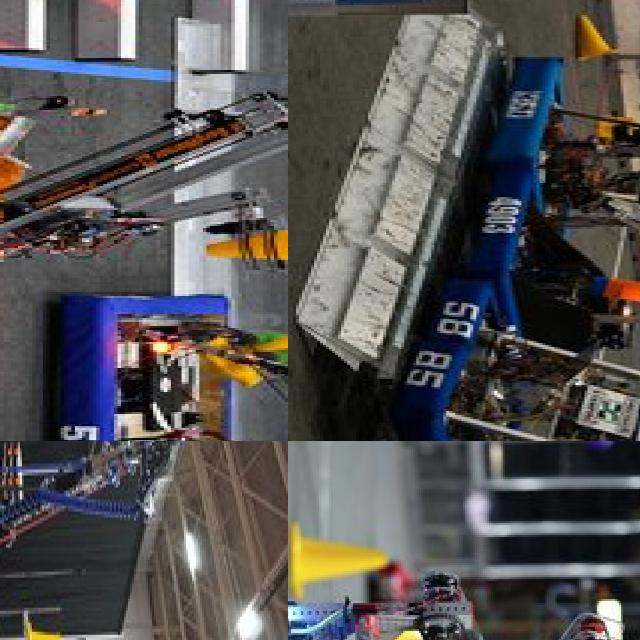FRC-Robots: (0, 40, 288, 373), (0, 441, 288, 640), (14, 270, 288, 441), (401, 297, 640, 441), (492, 41, 640, 241), (419, 176, 640, 308), (288, 589, 640, 640)
